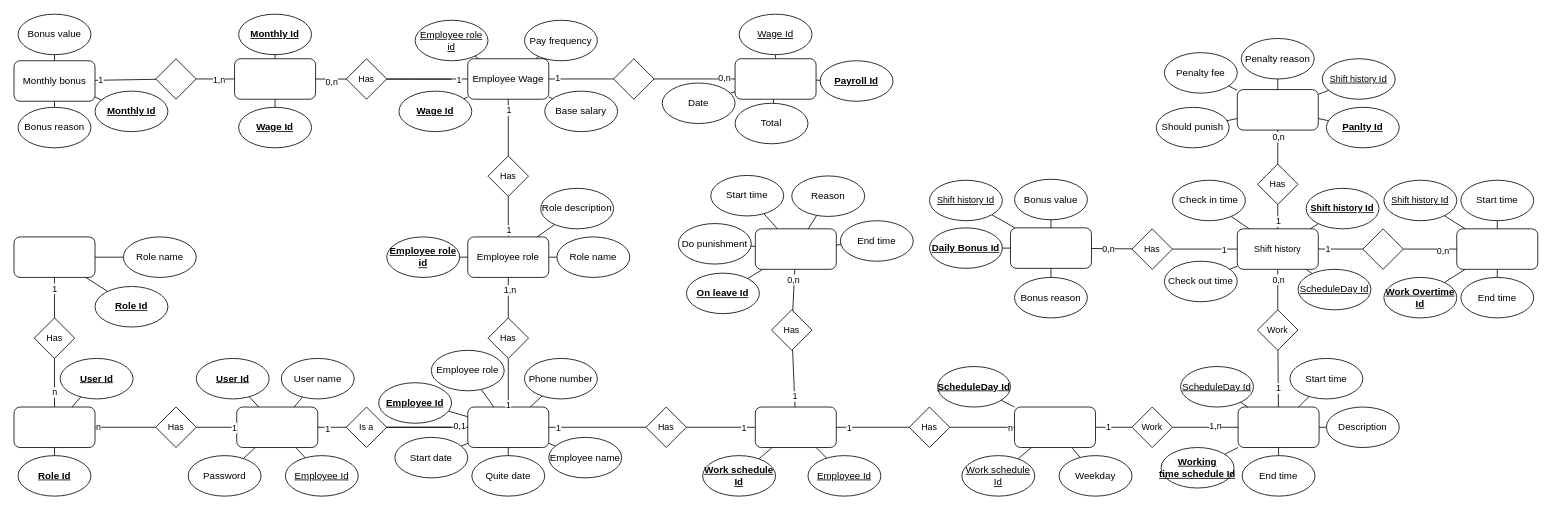
This 1553x510 diagram has some shape labels left out. The centre of each missing label's shape, as x and y in pixels:
"Bonus" goes at point 1050,247.
"Did" goes at point 1382,248.
"Employee" goes at point 508,427.
"In" goes at point 175,78.
"Monthly bonus-Employee wage" goes at point 275,78.
"Of" goes at point 633,78.
"On Leave" goes at point 795,248.
"Payroll" goes at point 775,78.
"Penalty" goes at point 1277,109.
"Role" goes at point 54,256.
"ScheduleDay" goes at point 1055,427.
"Shift schedule" goes at point 1278,427.
"User" goes at point 277,427.
"UserRole" goes at point 54,427.
"Work Overtime" goes at point 1497,248.
"Work schedule" goes at point 795,427.
